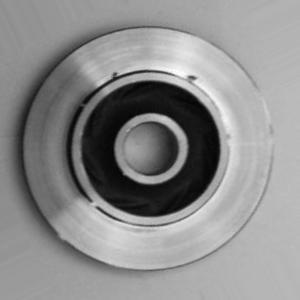crack: (182, 66, 206, 89), (105, 63, 123, 85)
scratch: (216, 101, 241, 157)
unpolished_casting: (18, 24, 277, 273)
